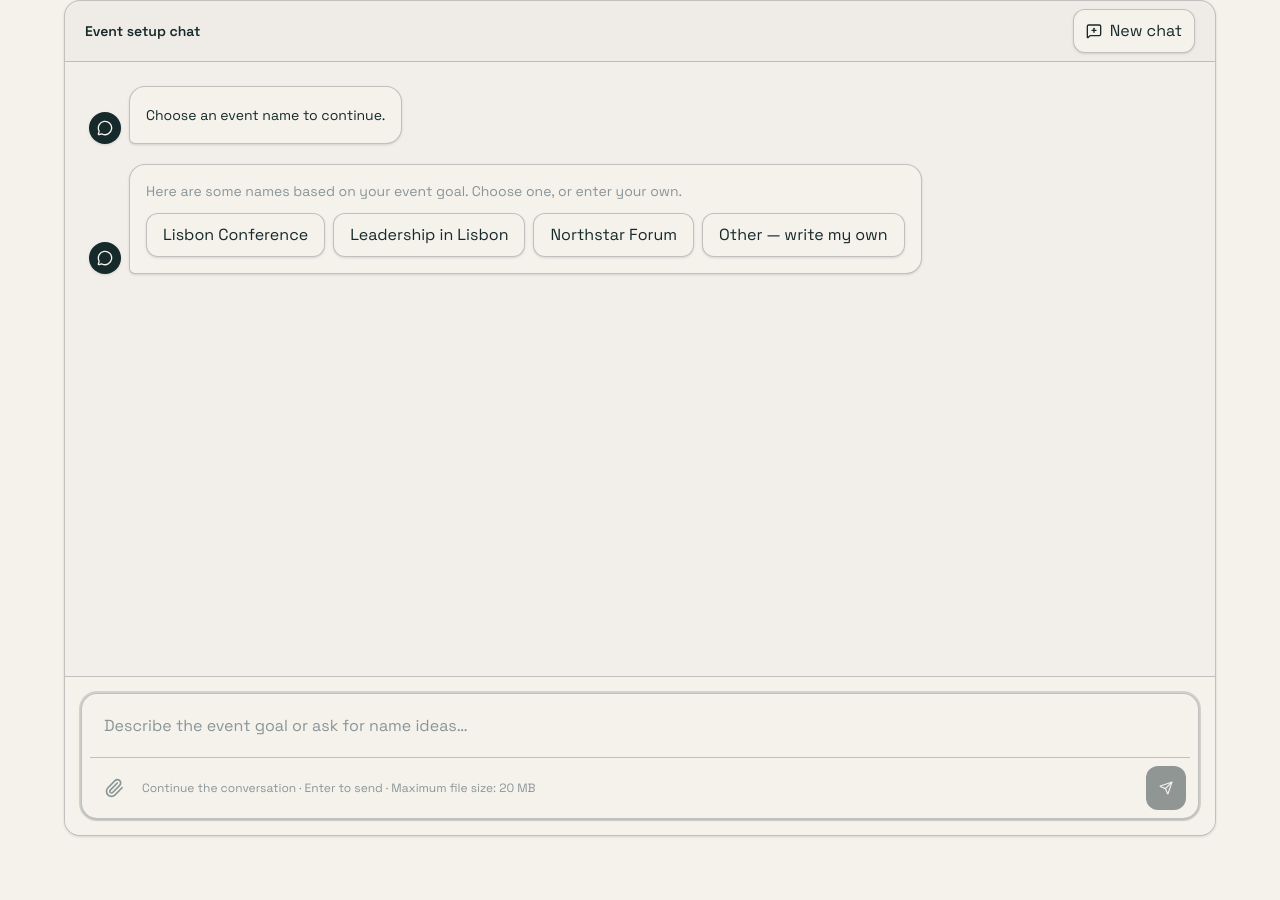
Test: CreateEventPage platform administrator flow › lets CLIENT_ADMIN accept a suggested name in the same setup chat
This screenshot has width=1280, height=900.
Expected: the button "Lisbon Conference" is shown, [146,213,325,257]
Expected: the button "Northstar Forum" is shown, [534,213,694,257]
Click the button "Leadership in Lisbon": point(429, 235) [333,213,526,257]
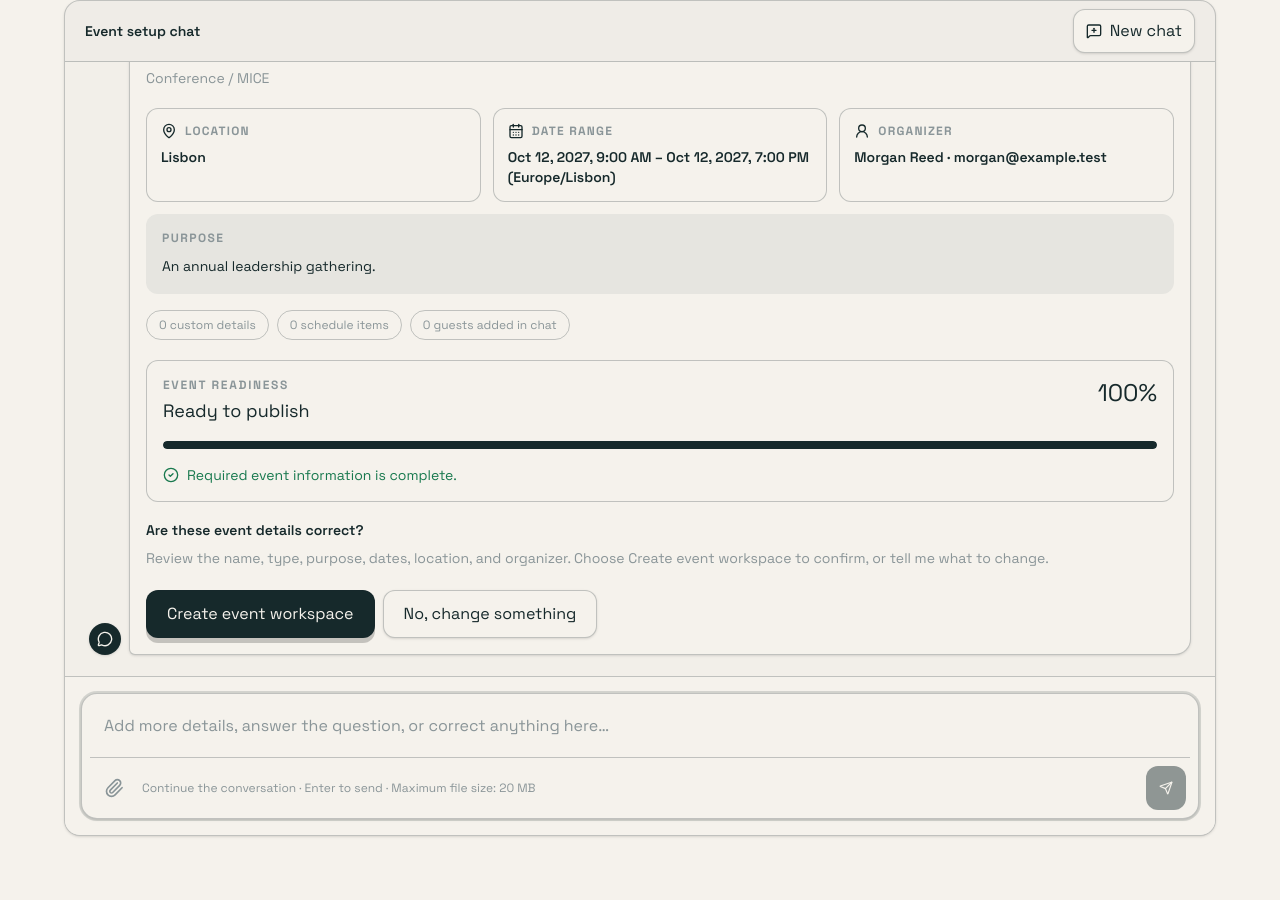
Expected: the button "Create event workspace" is enabled, [146,590,375,638]
